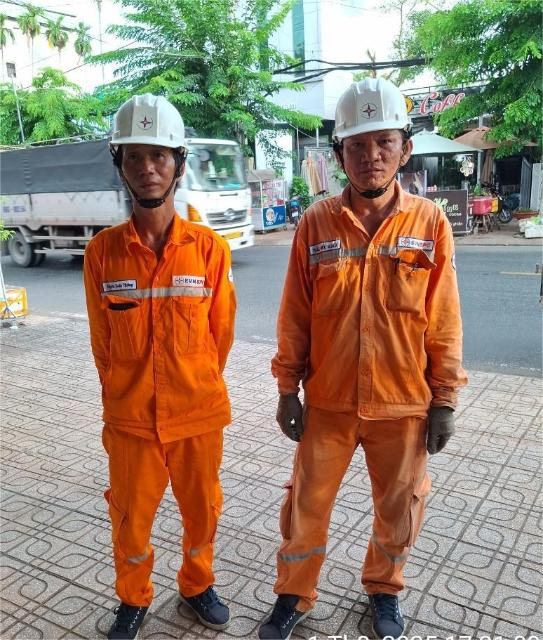gloves: (260, 377, 318, 447), (413, 386, 469, 453)
helmet: (320, 68, 422, 147), (103, 75, 187, 160)
shoes: (352, 578, 434, 640), (174, 568, 235, 632), (255, 574, 313, 640), (98, 580, 152, 640)
